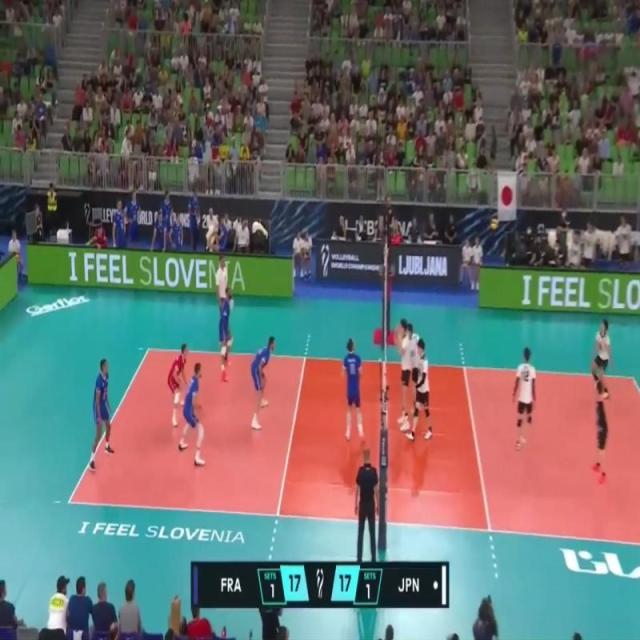volleyball: (490, 216, 499, 234)
